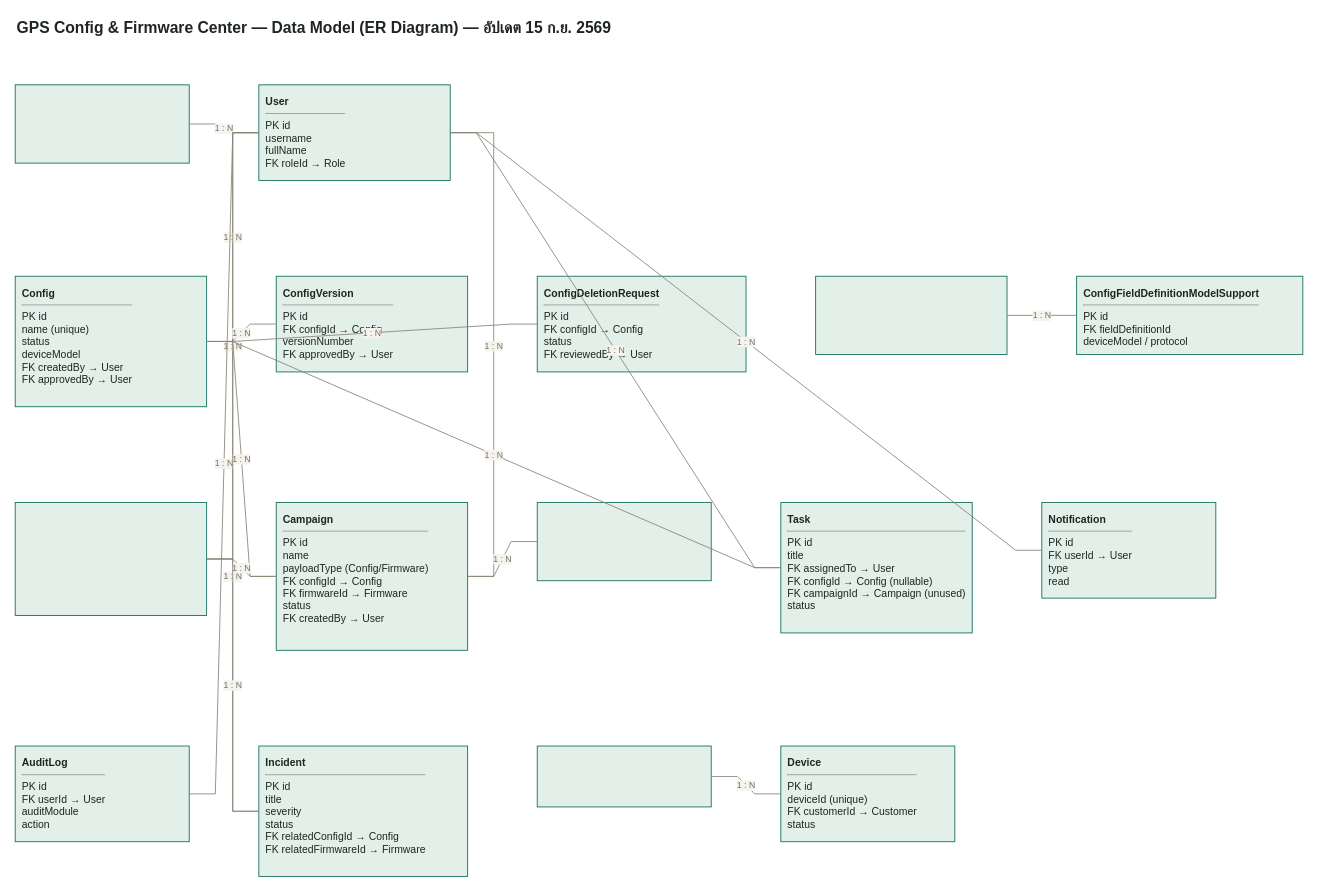
Some shapes in this 1318 by 892 pixel diagram are drawn without their labels. Here are the shapes that lost their labels. From the top down, the centre of each, then its label:
At (x=101, y=123): "Role PK id code name".
At (x=911, y=315): "ConfigFieldDefinition PK id fieldName (unique) dataType".
At (x=110, y=559): "Firmware PK id version uploadStatus deviceUpdateStatus FK uploadedBy → User".
At (x=623, y=541): "CampaignTarget PK id FK campaignId → Campaign deviceId (ref. Device.deviceId)".
At (x=623, y=776): "Customer PK id companyName (unique)".
